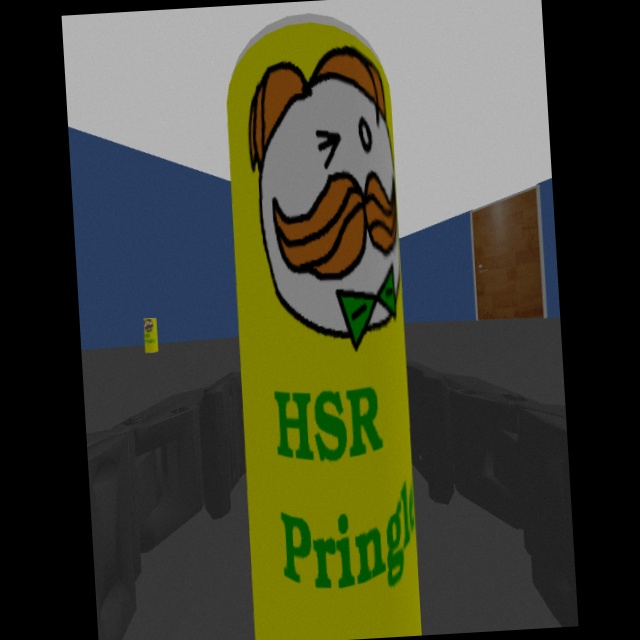chipsdose_gelb: (228, 14, 421, 640), (143, 317, 158, 353)
